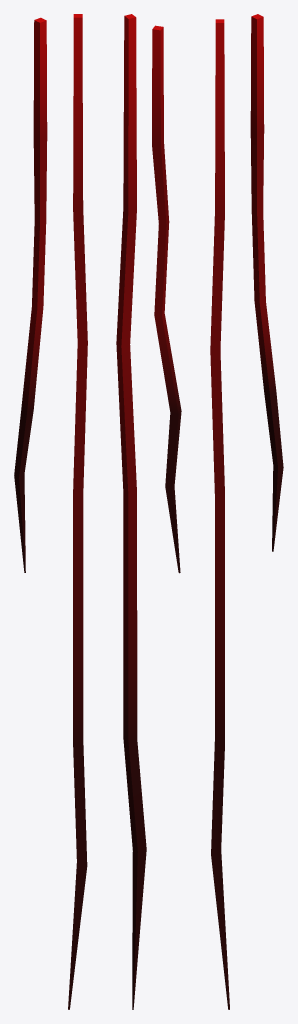
File: synty-tree-vines-03.gltf
3 renders of one model, left to right at view 1: azimuth 90°, elevation 25°; view 2: azimuth 210°, elevation 25°; view 3: azimuth 270°, elevation 25°, orthographic.
Visible parts, largest first — view 1: SM_Tree_Vines_03; view 2: SM_Tree_Vines_03; view 3: SM_Tree_Vines_03.
Boxes of the visible parts, left/top/right/bottom form: SM_Tree_Vines_03: left=14, top=14, right=87, bottom=1009; SM_Tree_Vines_03: left=116, top=14, right=181, bottom=1009; SM_Tree_Vines_03: left=210, top=14, right=283, bottom=1009.
Bounding box in the file's own units: 0.1881 × 5.09 × 0.3416.
